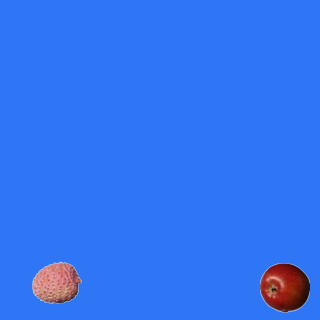Apple Braeburn: (259, 262, 309, 312)
Lychee: (31, 257, 81, 307)
